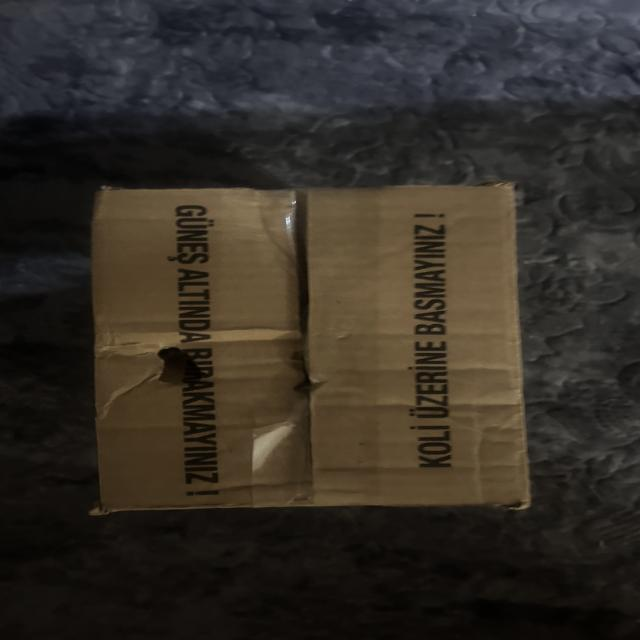damaged: (76, 179, 560, 520), (99, 330, 219, 413)
